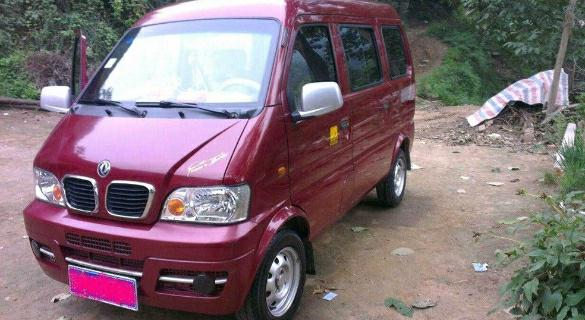东风小康-K17: (19, 5, 424, 320)
